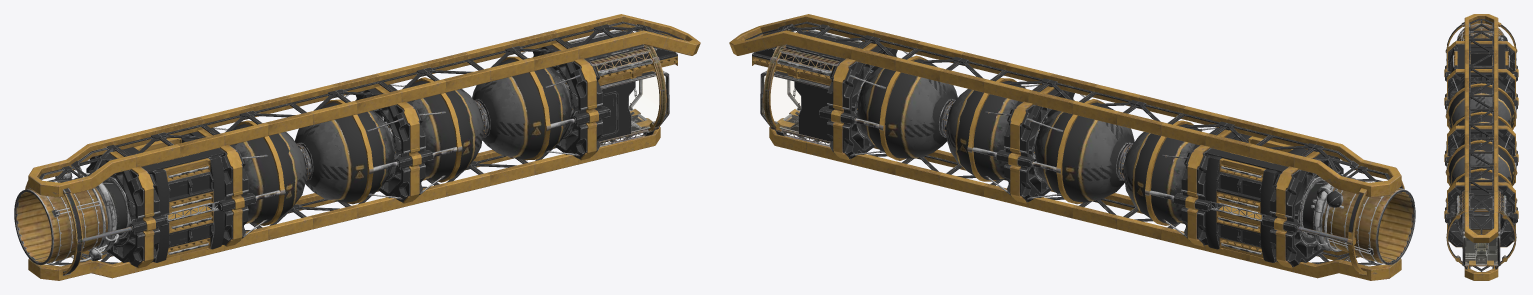
Rendered from imiq.glb.
3 views of the same model, side by side, from view 1: azimuth 30°, elevation 25°; view 2: azimuth 150°, elevation 25°; view 3: azimuth 270°, elevation 25° (orthographic). The views are drawn at different scales.
Visible parts, largest first — view 1: hull; view 2: hull; view 3: hull.
Boxes of the visible parts, x1=… form: hull: x1=14, y1=14, x2=700, y2=280; hull: x1=729, y1=14, x2=1415, y2=280; hull: x1=1444, y1=14, x2=1518, y2=280.
Bounding box in the file's own units: 72 × 12.05 × 10.73.
25 materials, 25 textured.
